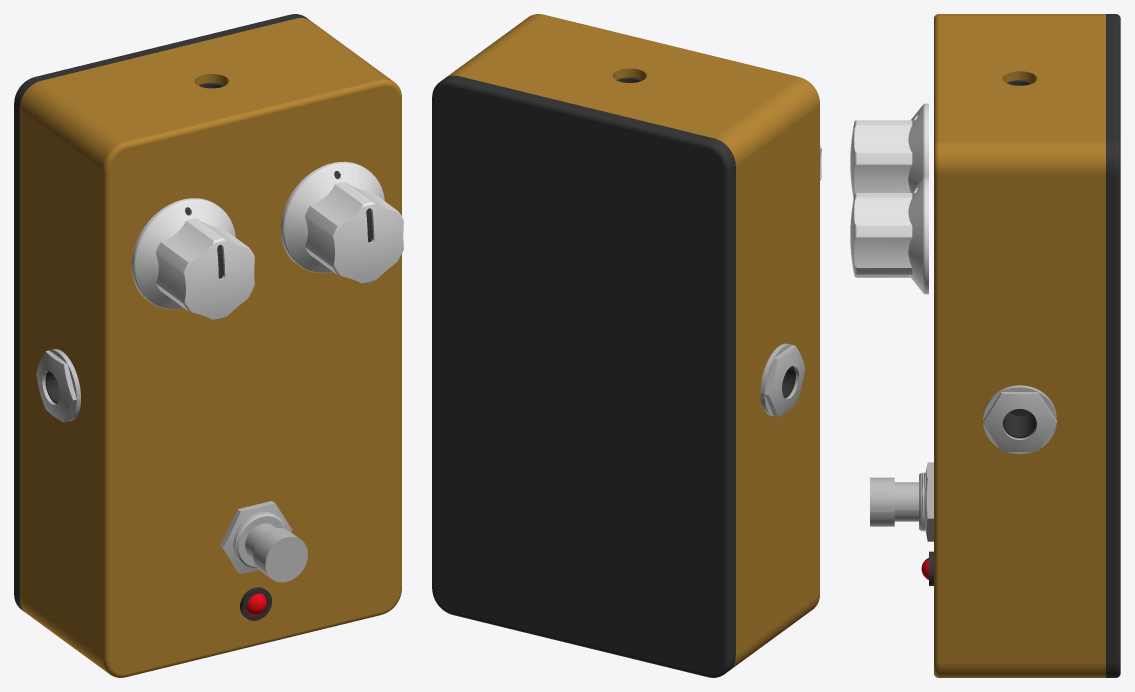
Rendered from Pedal2.glb.
3 views of the same model, side by side, from view 1: azimuth 30°, elevation 25°; view 2: azimuth 150°, elevation 25°; view 3: azimuth 270°, elevation 25° (orthographic).
Parts seen in each view (by area): view 1: Shape_IndexedFaceSet.045, Shape_IndexedFaceSet.018, Shape_IndexedFaceSet.026, Shape_IndexedFaceSet.050, Shape_IndexedFaceSet.054, Shape_IndexedFaceSet.005, Shape_IndexedFaceSet.250, Shape_IndexedFaceSet.289, Shape_IndexedFaceSet.260, Shape_IndexedFaceSet.299, Shape_IndexedFaceSet.261, Shape_IndexedFaceSet.300 (+17 smaller); view 2: Shape_IndexedFaceSet, Shape_IndexedFaceSet.018, Shape_IndexedFaceSet.026, Shape_IndexedFaceSet.050, Shape_IndexedFaceSet.012, Shape_IndexedFaceSet.005, Shape_IndexedFaceSet.014, Shape_IndexedFaceSet.016, Shape_IndexedFaceSet.007, Shape_IndexedFaceSet.048, Shape_IndexedFaceSet.010, Shape_IndexedFaceSet.201 (+1 smaller); view 3: Shape_IndexedFaceSet.019, Shape_IndexedFaceSet.026, Shape_IndexedFaceSet.049, Shape_IndexedFaceSet.001, Shape_IndexedFaceSet.016, Shape_IndexedFaceSet.058, Shape_IndexedFaceSet.046, Shape_IndexedFaceSet.311, Shape_IndexedFaceSet.272, Shape_IndexedFaceSet.271, Shape_IndexedFaceSet.310, Shape_IndexedFaceSet.007 (+12 smaller).
Boxes of the visible parts, x1=… form: Shape_IndexedFaceSet.045: x1=110, y1=85, x2=399, y2=674; Shape_IndexedFaceSet.018: x1=19, y1=109, x2=103, y2=659; Shape_IndexedFaceSet.026: x1=41, y1=18, x2=379, y2=141; Shape_IndexedFaceSet.050: x1=19, y1=81, x2=123, y2=169; Shape_IndexedFaceSet.054: x1=103, y1=170, x2=109, y2=660; Shape_IndexedFaceSet.005: x1=14, y1=105, x2=19, y2=598; Shape_IndexedFaceSet.250: x1=135, y1=201, x2=209, y2=306; Shape_IndexedFaceSet.289: x1=284, y1=164, x2=358, y2=270; Shape_IndexedFaceSet.260: x1=185, y1=241, x2=236, y2=315; Shape_IndexedFaceSet.299: x1=334, y1=204, x2=385, y2=279; Shape_IndexedFaceSet.261: x1=204, y1=245, x2=254, y2=319; Shape_IndexedFaceSet.300: x1=353, y1=209, x2=403, y2=283; Shape_IndexedFaceSet: x1=434, y1=85, x2=724, y2=674; Shape_IndexedFaceSet.018: x1=736, y1=105, x2=819, y2=655; Shape_IndexedFaceSet.026: x1=459, y1=15, x2=797, y2=138; Shape_IndexedFaceSet.050: x1=715, y1=77, x2=819, y2=165; Shape_IndexedFaceSet.012: x1=724, y1=169, x2=730, y2=660; Shape_IndexedFaceSet.005: x1=731, y1=166, x2=735, y2=659; Shape_IndexedFaceSet.014: x1=451, y1=80, x2=709, y2=148; Shape_IndexedFaceSet.016: x1=432, y1=98, x2=434, y2=589; Shape_IndexedFaceSet.007: x1=454, y1=76, x2=714, y2=141; Shape_IndexedFaceSet.048: x1=731, y1=595, x2=819, y2=669; Shape_IndexedFaceSet.010: x1=451, y1=612, x2=707, y2=676; Shape_IndexedFaceSet.201: x1=768, y1=353, x2=790, y2=416; Shape_IndexedFaceSet.019: x1=938, y1=173, x2=1105, y2=663; Shape_IndexedFaceSet.026: x1=938, y1=16, x2=1105, y2=140; Shape_IndexedFaceSet.049: x1=938, y1=141, x2=1105, y2=173; Shape_IndexedFaceSet.001: x1=1106, y1=173, x2=1115, y2=663; Shape_IndexedFaceSet.016: x1=1115, y1=172, x2=1120, y2=663; Shape_IndexedFaceSet.058: x1=934, y1=172, x2=938, y2=663; Shape_IndexedFaceSet.046: x1=938, y1=664, x2=1105, y2=677; Shape_IndexedFaceSet.311: x1=854, y1=237, x2=911, y2=267; Shape_IndexedFaceSet.272: x1=854, y1=164, x2=911, y2=193; Shape_IndexedFaceSet.271: x1=854, y1=125, x2=911, y2=152; Shape_IndexedFaceSet.310: x1=854, y1=198, x2=911, y2=225; Shape_IndexedFaceSet.007: x1=1106, y1=16, x2=1115, y2=140.
Size of the model in its own units: 2.27 by 3.6 by 1.65.
